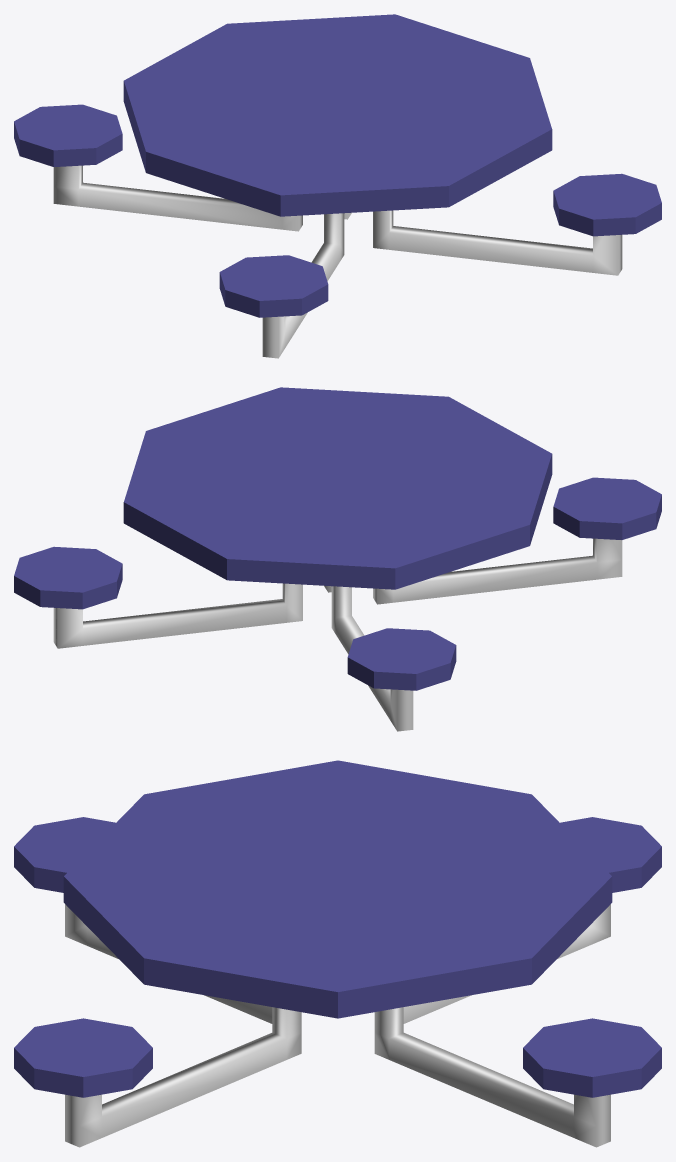
The model's file is LunchTable.glb.
The picture shows the model from 3 angles, top to bottom: view 1: azimuth 30°, elevation 25°; view 2: azimuth 150°, elevation 25°; view 3: azimuth 270°, elevation 25°; orthographic projection. The views are drawn at different scales.
Visible parts, largest first — view 1: Cylinder, Cylinder_001, Cube; view 2: Cylinder, Cylinder_001, Cube; view 3: Cylinder, Cylinder_001, Cube.
Boxes of the visible parts, x1,y1,x2,y2 form: Cylinder: [123, 14, 552, 216]; Cylinder_001: [14, 104, 661, 317]; Cube: [53, 165, 622, 358]; Cylinder: [123, 387, 552, 589]; Cylinder_001: [14, 477, 661, 690]; Cube: [53, 538, 622, 731]; Cylinder: [63, 760, 612, 1018]; Cylinder_001: [14, 817, 661, 1097]; Cube: [65, 904, 610, 1147].
Bounding box in the file's own units: 2.77 × 0.8065 × 2.91.
